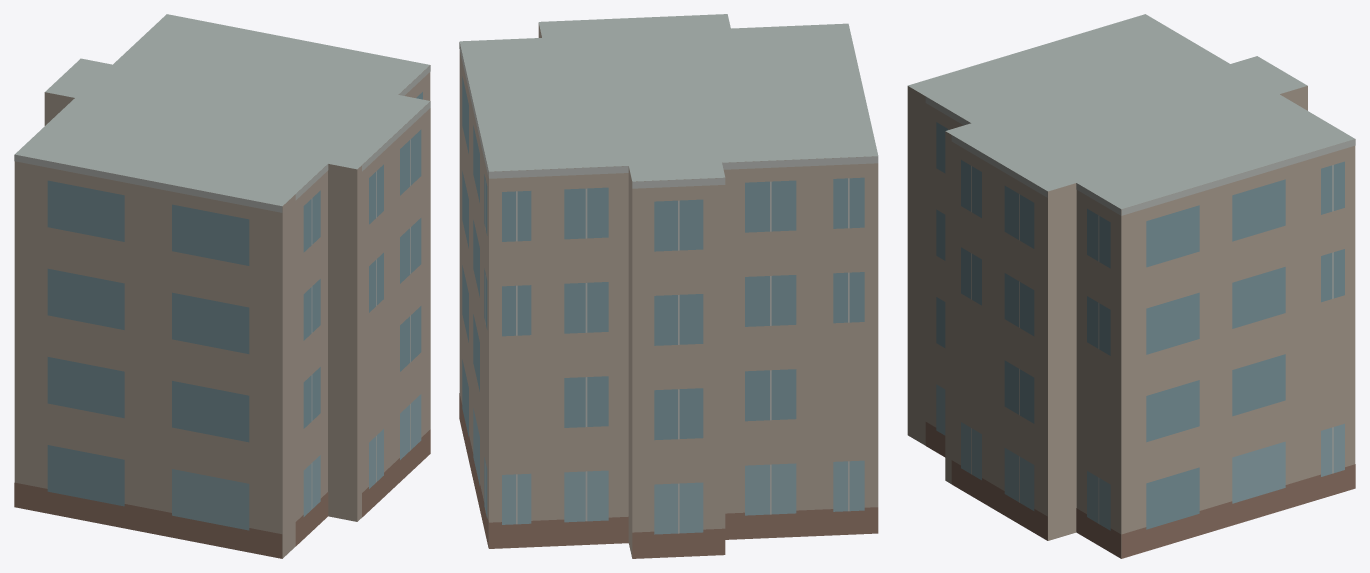
Rendered from survey-upis-32754907.glb.
The picture shows the model from 3 angles, left to right: view 1: azimuth 30°, elevation 25°; view 2: azimuth 150°, elevation 25°; view 3: azimuth 270°, elevation 25°; orthographic projection. The views are drawn at different scales.
Visible parts, largest first — view 1: survey-upis-32754907.tmp; view 2: survey-upis-32754907.tmp; view 3: survey-upis-32754907.tmp.
Boxes of the visible parts, x1,y1,x2,y2 form: survey-upis-32754907.tmp: (14,14,430,558); survey-upis-32754907.tmp: (459,14,878,558); survey-upis-32754907.tmp: (907,14,1355,558).
Bounding box in the file's own units: 15.47 × 12.9 × 14.99.
